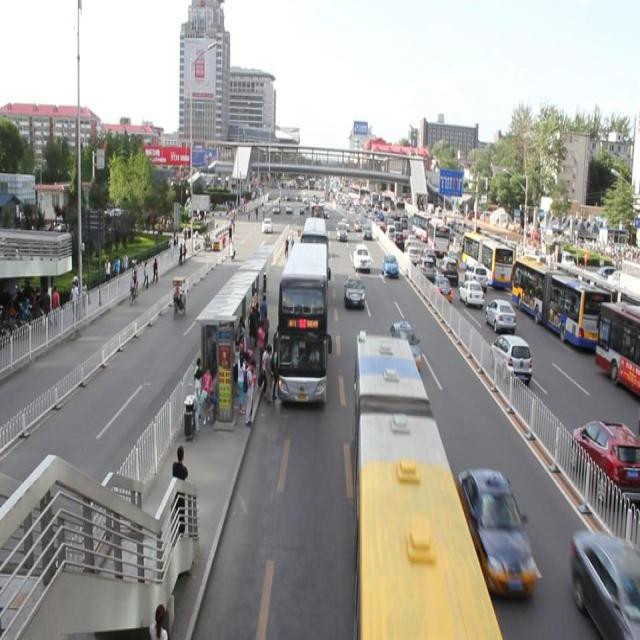car: (457, 464, 535, 596), (570, 527, 640, 633), (342, 273, 365, 307), (352, 243, 369, 269), (382, 252, 398, 275), (334, 222, 346, 240), (362, 223, 371, 239), (352, 218, 361, 231)
van: (348, 330, 502, 640), (278, 237, 328, 405), (300, 215, 326, 282)
